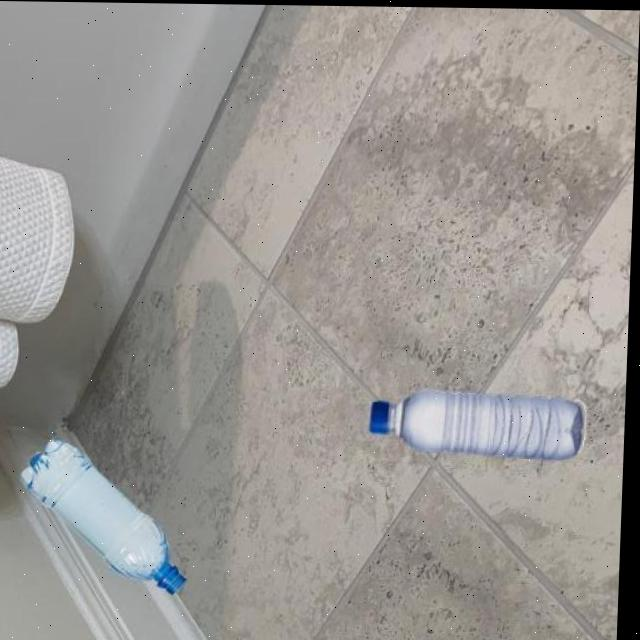bottle: (19, 435, 195, 595), (369, 385, 590, 461)
